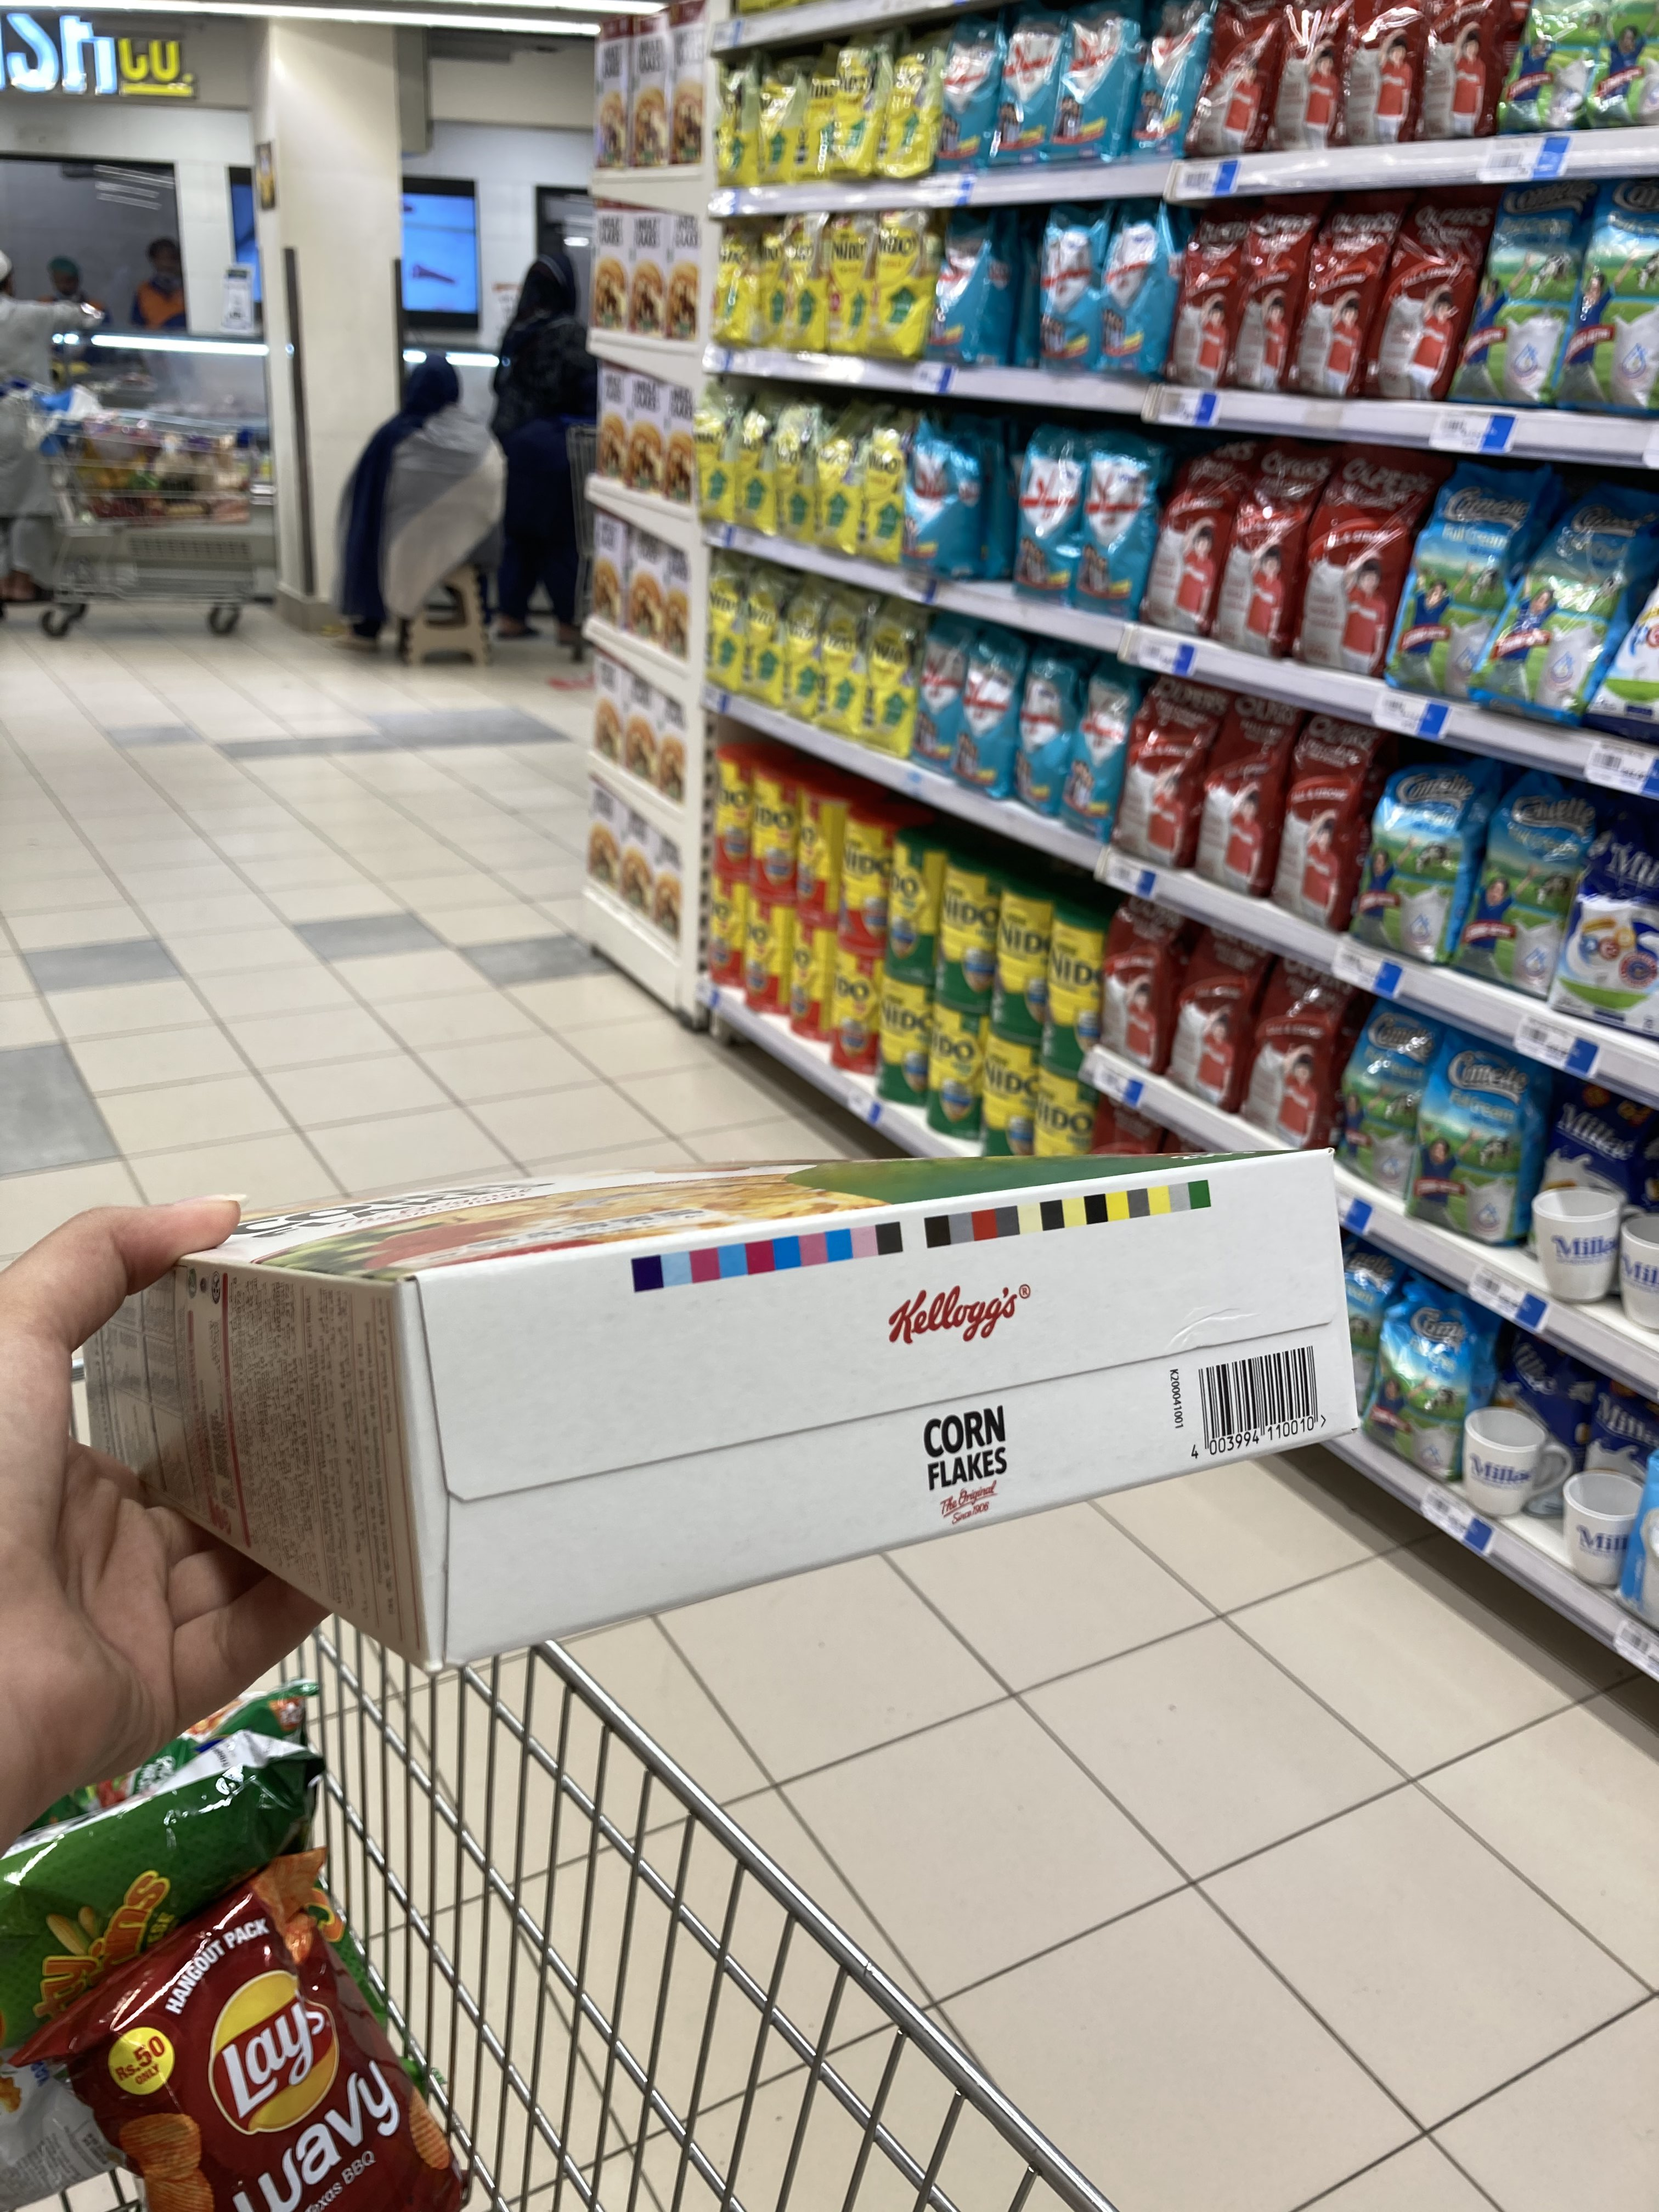Kellogg's Corn Flakes: (197, 1148, 1363, 1676)
